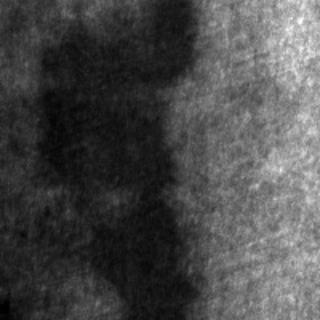patches: (45, 0, 193, 188), (90, 202, 194, 318)
